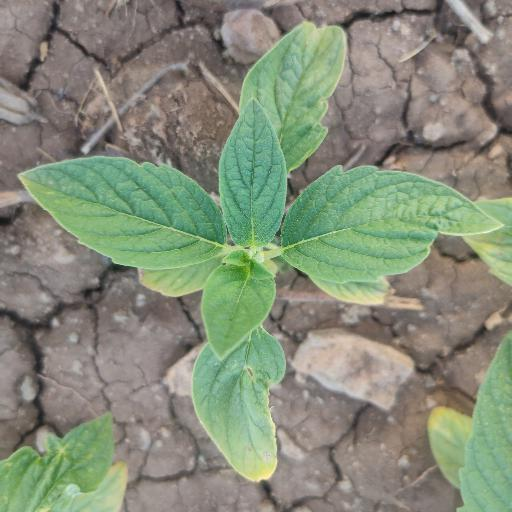crop: (18, 18, 506, 481)
